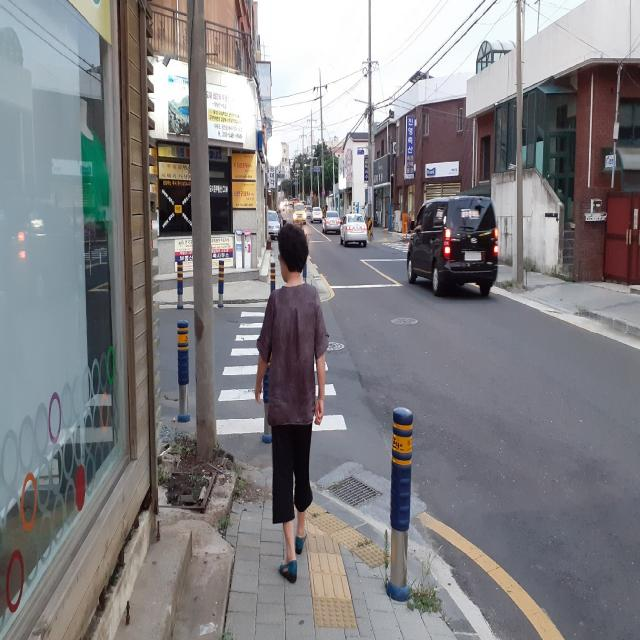횡단보도: (216, 310, 347, 434)
